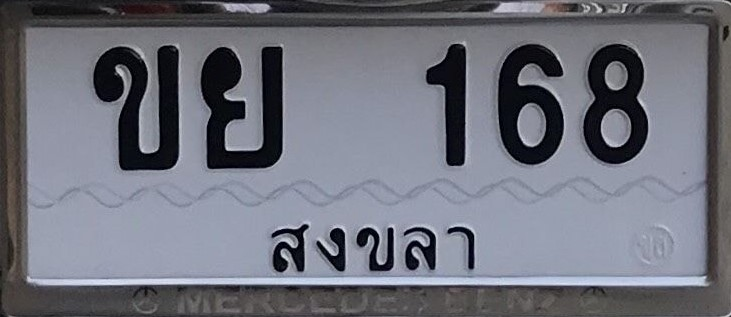txt02: (91, 43, 184, 175)
txt29: (197, 43, 286, 174)
